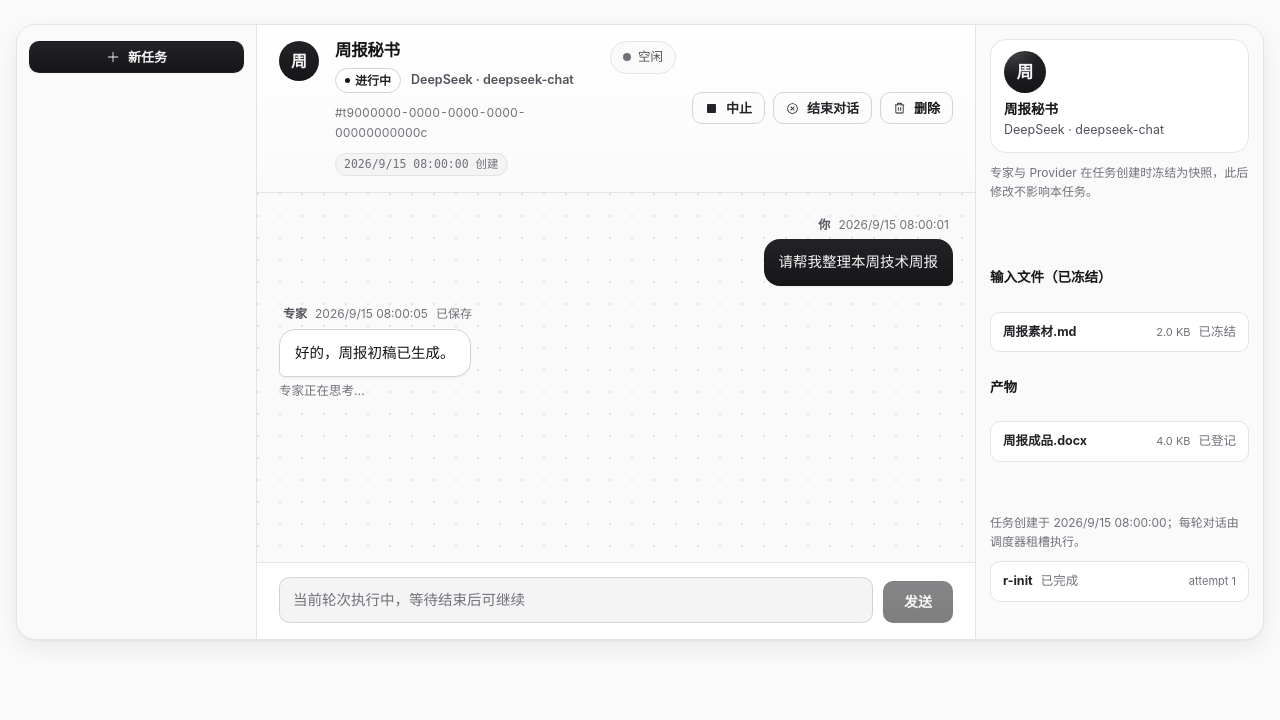
⑥ abort running → 202「终止中」→ 终态收敛 › 202 cancelling 显示终止中，status_changed(aborted) 后收敛并触发终局刷新
Click the button "中止".
click(728, 108)  # box [692,92,765,124]
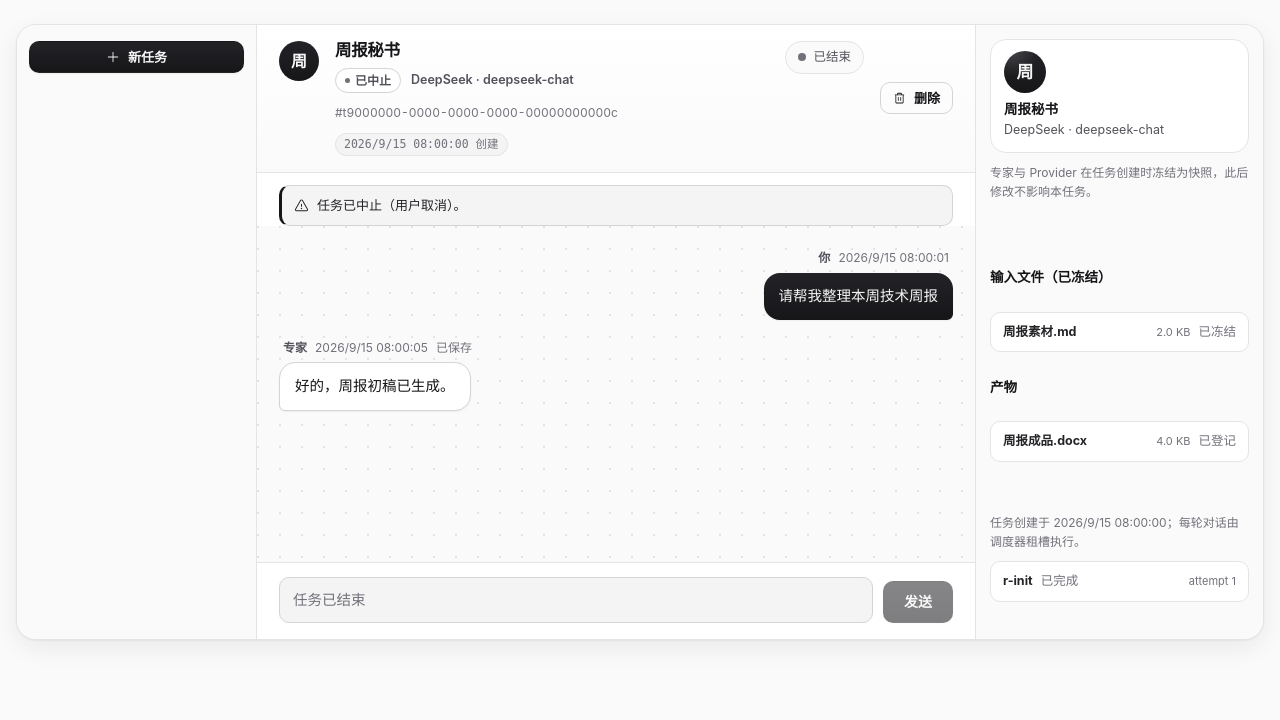
expect the text "终止中" is shown: met, box [786,41,864,74]
expect the text "已中止" is shown: met, box [335,68,401,93]
